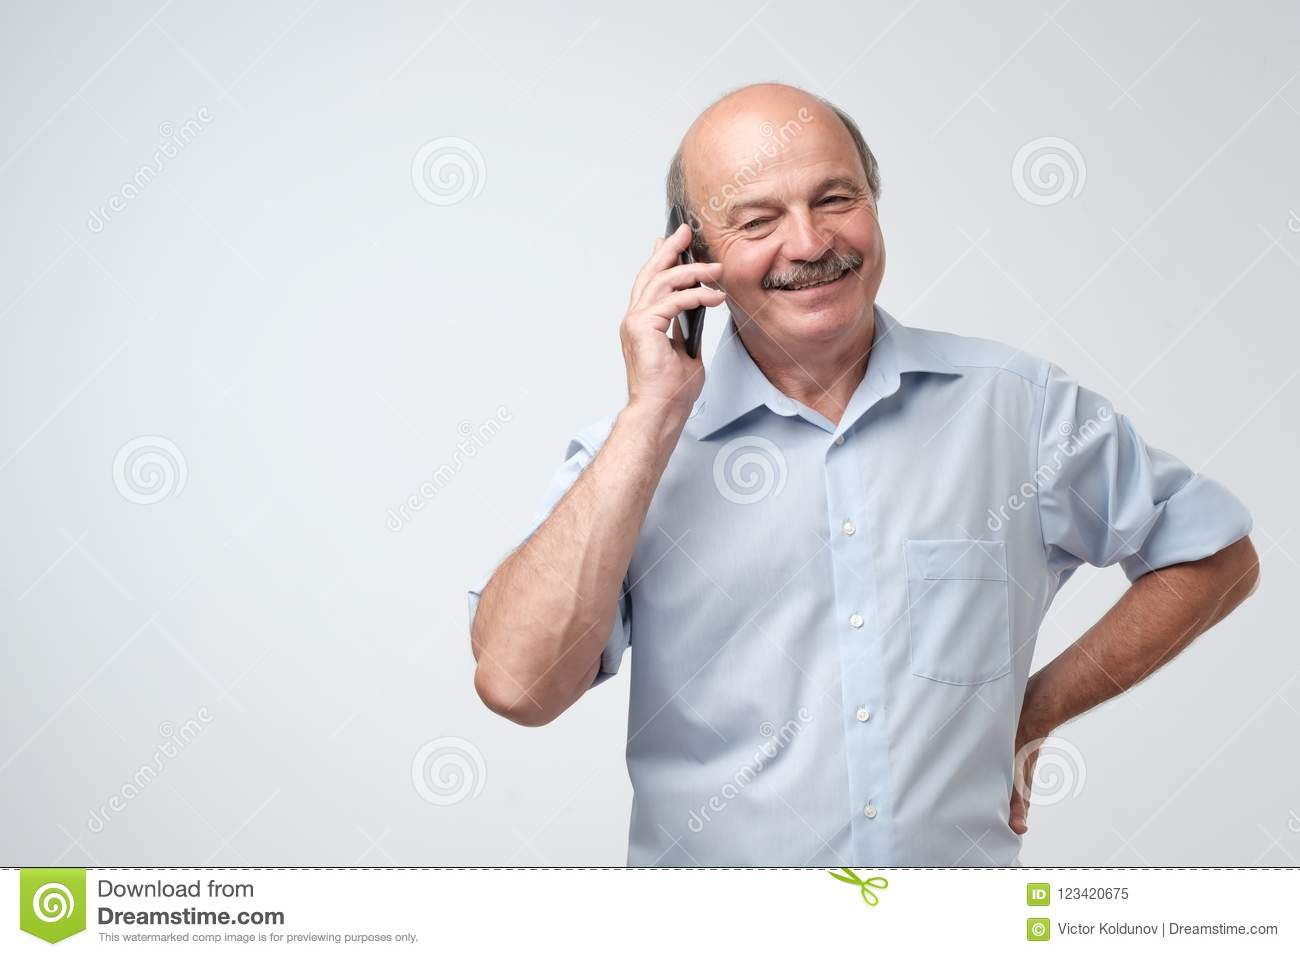phone: (660, 197, 708, 363)
talk: (615, 159, 878, 427)
